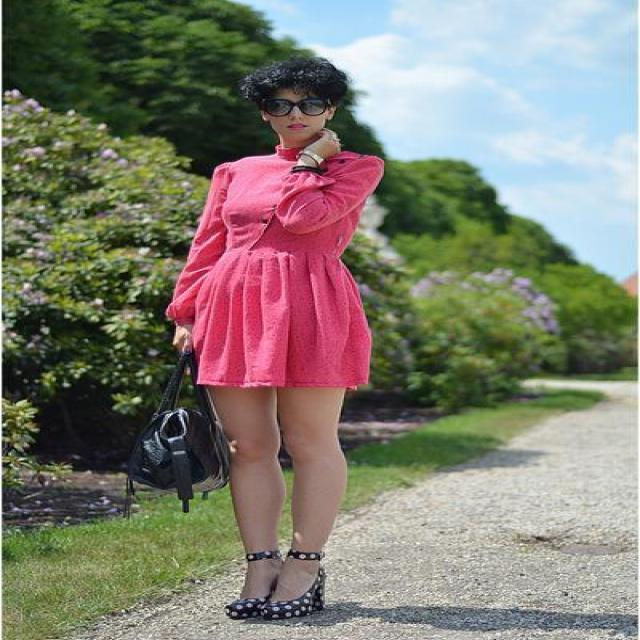bag: (118, 397, 237, 498)
dress: (166, 150, 382, 390)
shoe: (237, 570, 315, 600)
sunglass: (272, 85, 323, 114)
